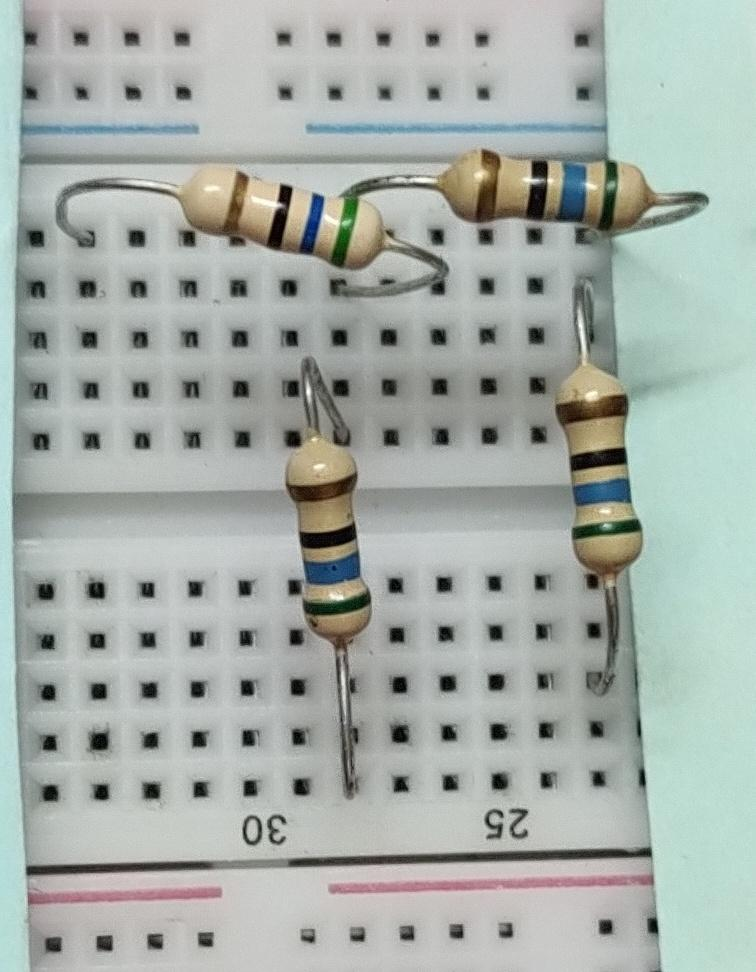resistor: (169, 151, 390, 270), (543, 351, 656, 580), (277, 425, 387, 654), (431, 139, 664, 237)
